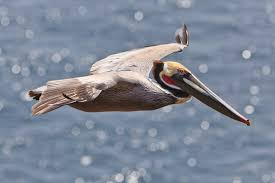pelican: (29, 24, 251, 127)
